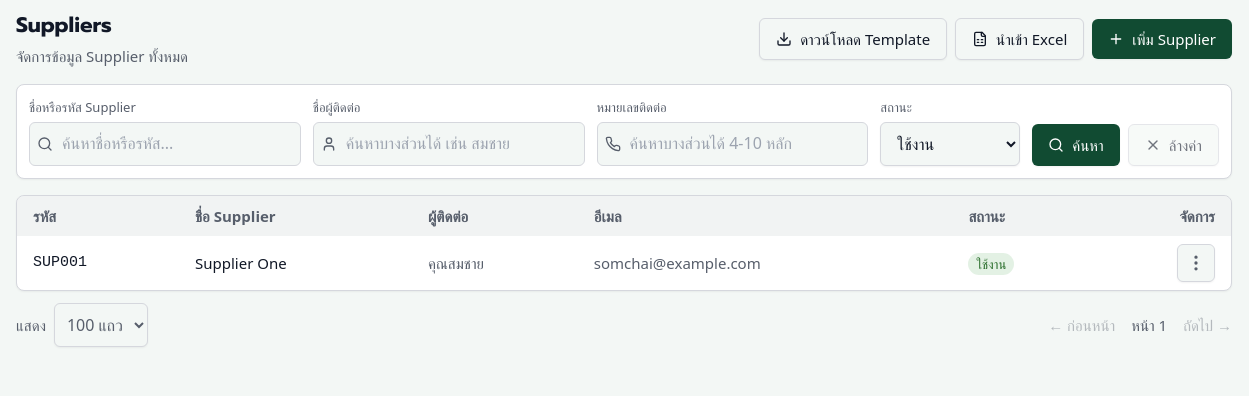
Test: Suppliers — contact and status filters (round 8-20D) › clears the validation message once the user edits again
Expected: the text "SUP001" is shown, top-left (17, 236), bottom-right (179, 290)
Type "555" into the field labelled "หมายเลขติดต่อ" at (732, 144), box top-left (597, 122), bottom-right (868, 166)
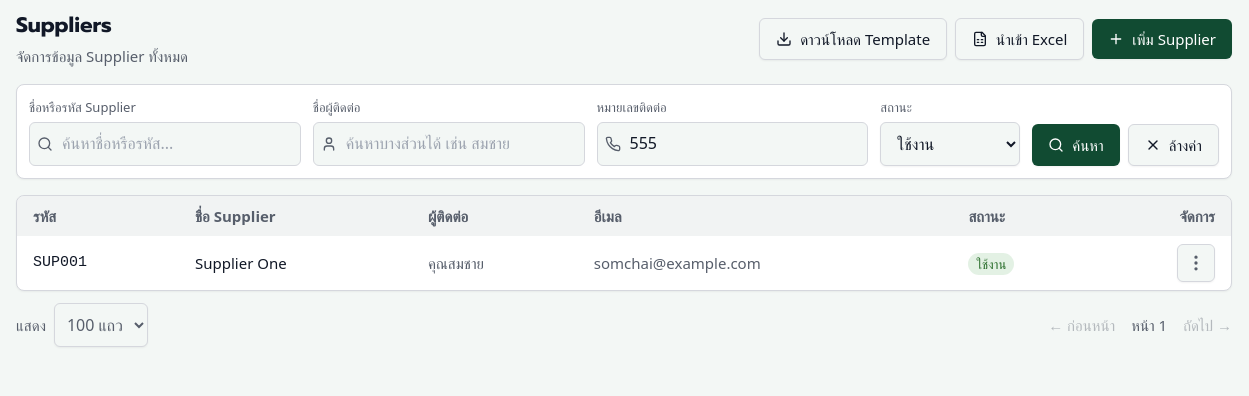
Click the button "ค้นหา" at (1076, 145), box top-left (1032, 124), bottom-right (1120, 166)
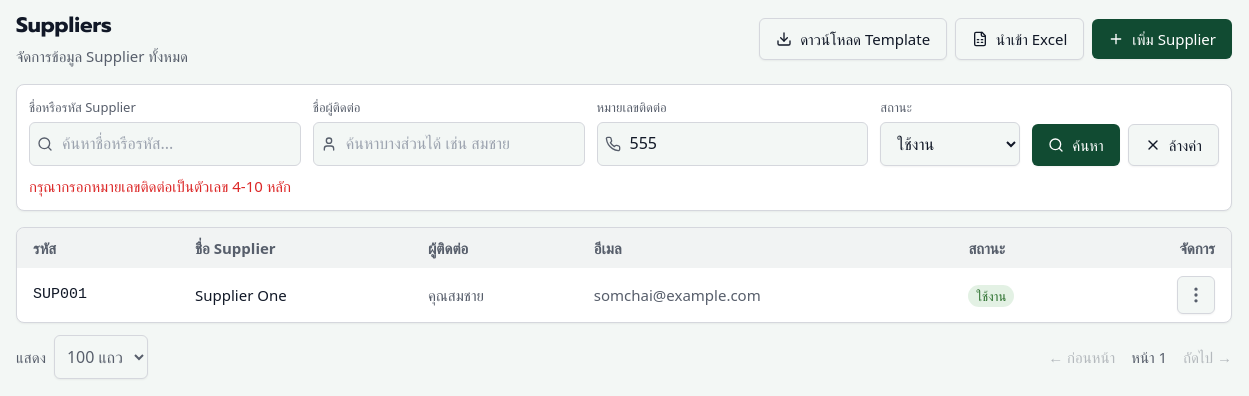
Expected: the message "กรุณากรอกหมายเลขติดต่อเป็นตัวเลข 4-10 หลัก" is shown, top-left (29, 176), bottom-right (291, 196)
Replace the text in the field labelled "หมายเลขติดต่อ" with "5552" at (732, 144), box top-left (597, 122), bottom-right (868, 166)
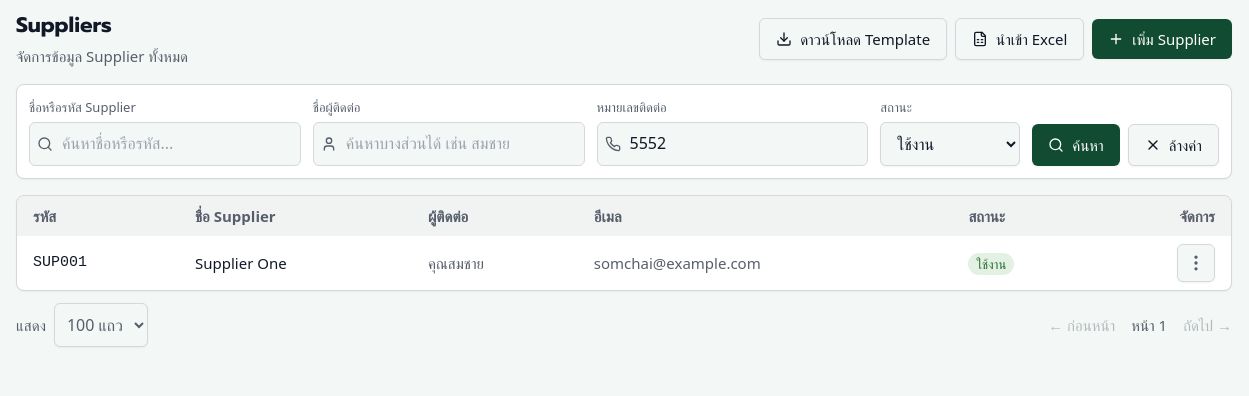
Expected: the message "กรุณากรอกหมายเลขติดต่อเป็นตัวเลข 4-10 หลัก" is gone
